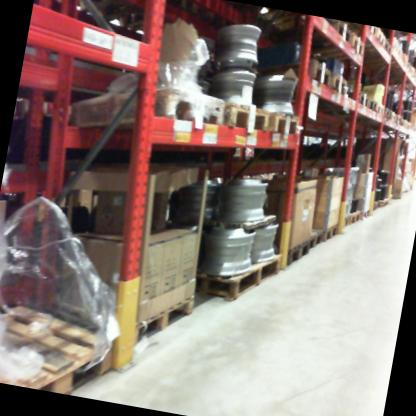pallet: (65, 66, 229, 164), (0, 299, 127, 398), (180, 239, 283, 313), (114, 282, 203, 357), (296, 19, 370, 70), (258, 46, 334, 92), (287, 13, 355, 55), (219, 100, 273, 145), (328, 82, 373, 118), (260, 109, 303, 144), (277, 235, 313, 275), (317, 69, 351, 105), (355, 37, 396, 63), (357, 26, 388, 56), (299, 226, 326, 256), (312, 219, 339, 248), (344, 204, 363, 234), (331, 209, 349, 236), (350, 23, 379, 36), (356, 204, 372, 227), (372, 97, 387, 121), (365, 95, 380, 117), (374, 195, 388, 210), (380, 107, 393, 122), (368, 199, 379, 213)
